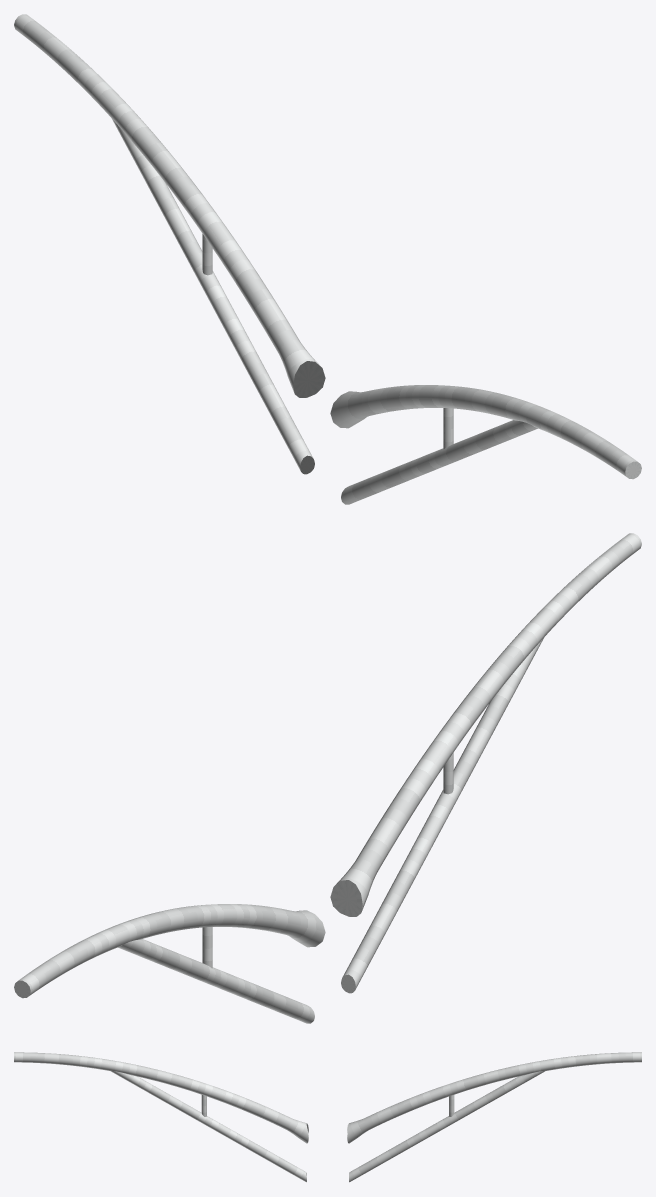
Rendered from luminairearm_truss12ftdouble_inv.obj.
3 views of the same model, one above another, from view 1: azimuth 30°, elevation 25°; view 2: azimuth 150°, elevation 25°; view 3: azimuth 270°, elevation 25° (orthographic). The views are drawn at different scales.
Visible parts, largest first — view 1: luminairearm_truss12ftdouble_inv; view 2: luminairearm_truss12ftdouble_inv; view 3: luminairearm_truss12ftdouble_inv.
Part boxes in pixels (x1,y1,x2,y2): luminairearm_truss12ftdouble_inv: [14, 14, 641, 504]; luminairearm_truss12ftdouble_inv: [14, 533, 641, 1023]; luminairearm_truss12ftdouble_inv: [14, 1052, 641, 1182].
Bounding box in the file's own units: 0.0307 × 0.2271 × 1.
